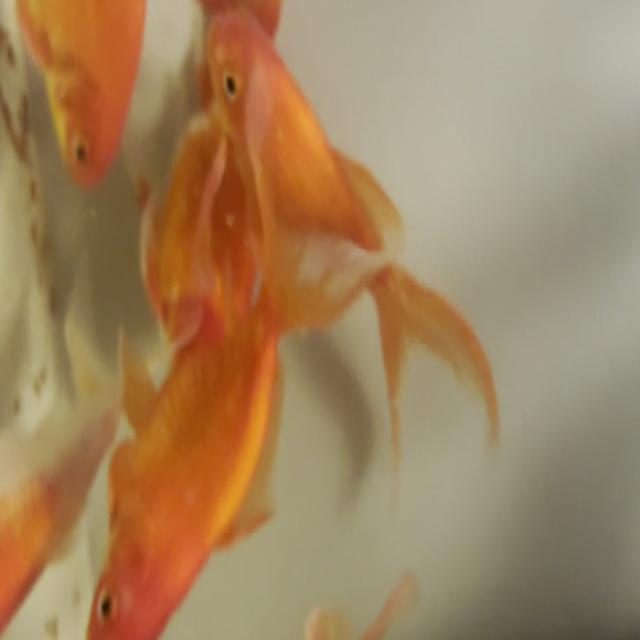fish: (187, 0, 494, 481), (86, 240, 284, 640), (0, 0, 182, 194), (0, 365, 123, 640)
